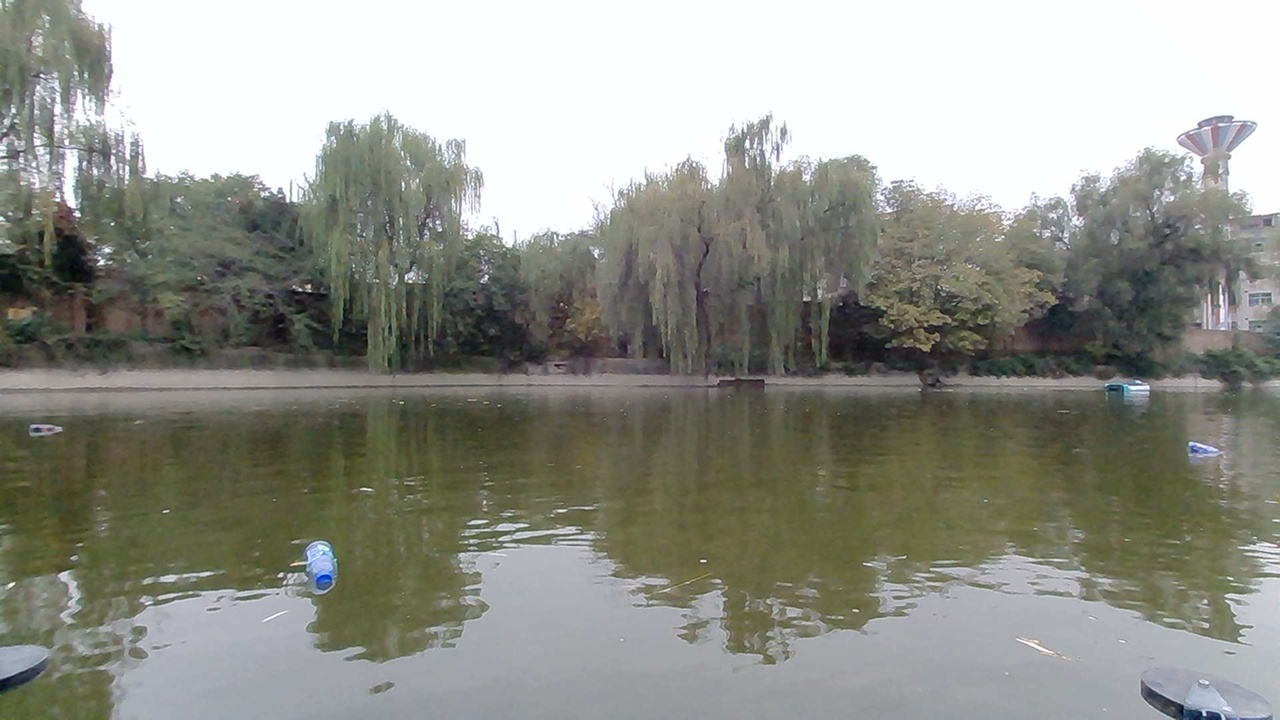bottle: (294, 549, 344, 586), (1182, 435, 1227, 469), (28, 405, 60, 439)
